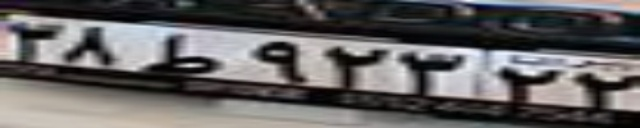2: (326, 45, 383, 88), (575, 70, 636, 109), (499, 66, 561, 102)
3: (400, 51, 461, 96), (6, 19, 63, 63)
8: (63, 22, 114, 64)
9: (254, 40, 309, 82)
taa: (136, 33, 219, 75)
